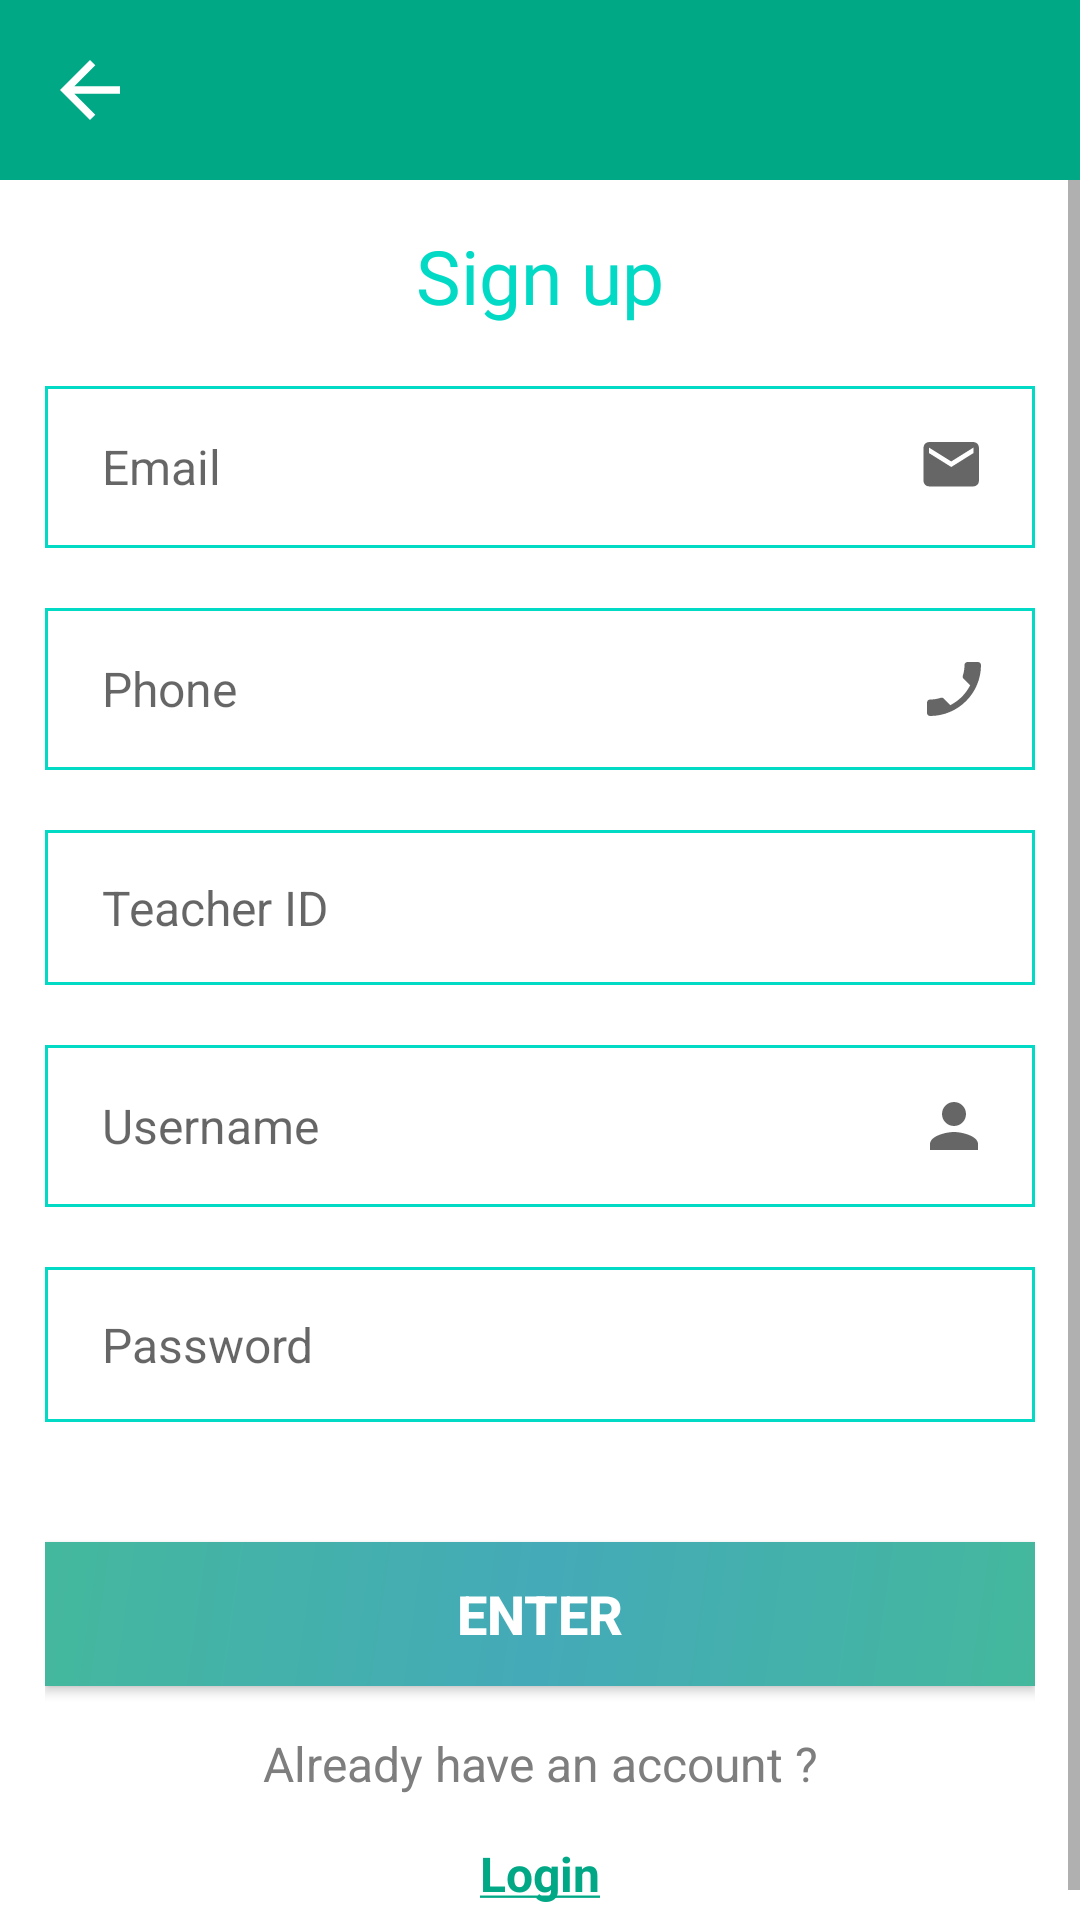

Screen size 1080px x 1920px. Icon name, then its center in pixels as point (x, y):
back arrow: point (90, 90)
